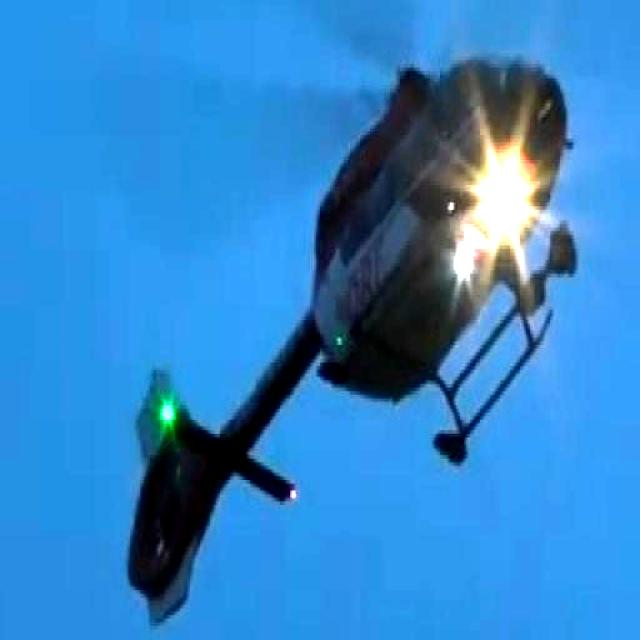drone: (130, 42, 581, 640)
